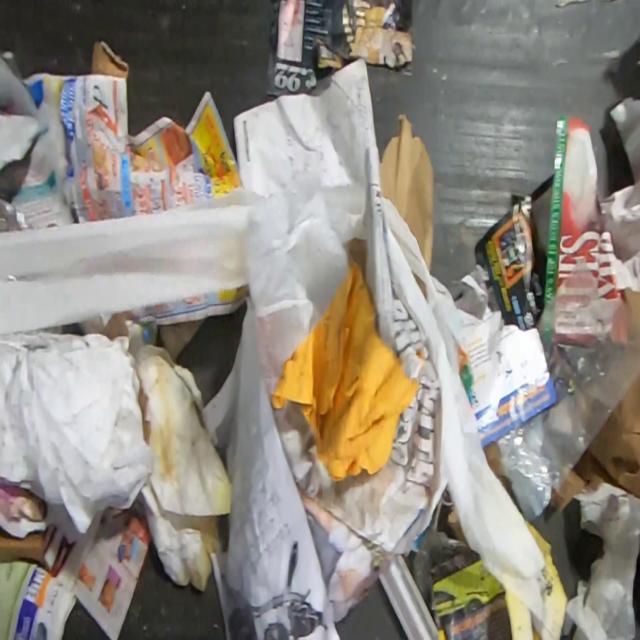cardboard: (549, 374, 640, 512), (379, 112, 435, 274), (527, 520, 568, 640), (501, 583, 534, 640), (89, 39, 129, 80), (0, 533, 44, 563), (622, 286, 640, 323)
soft_plastic: (494, 255, 640, 522), (240, 166, 351, 396)
